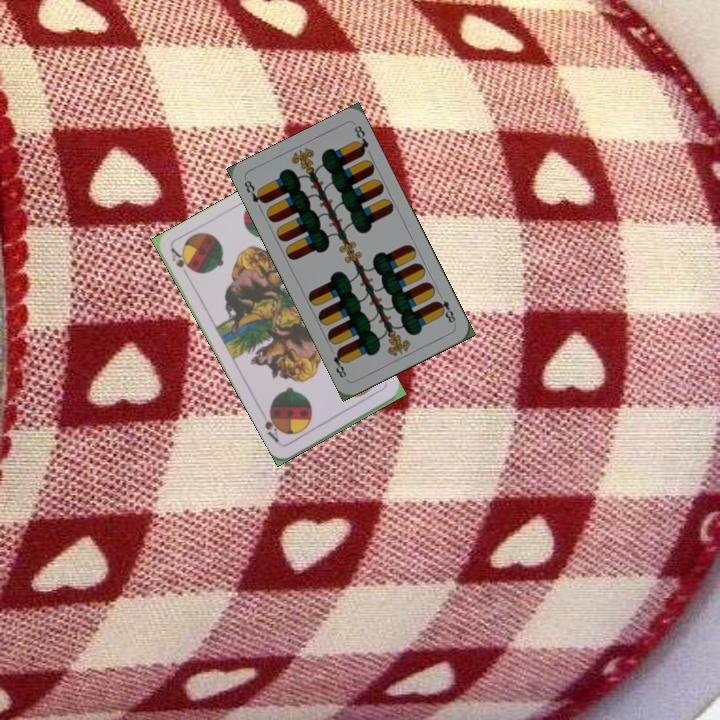E8: (240, 176, 269, 206), (432, 296, 458, 327)
SA: (166, 244, 194, 282)
